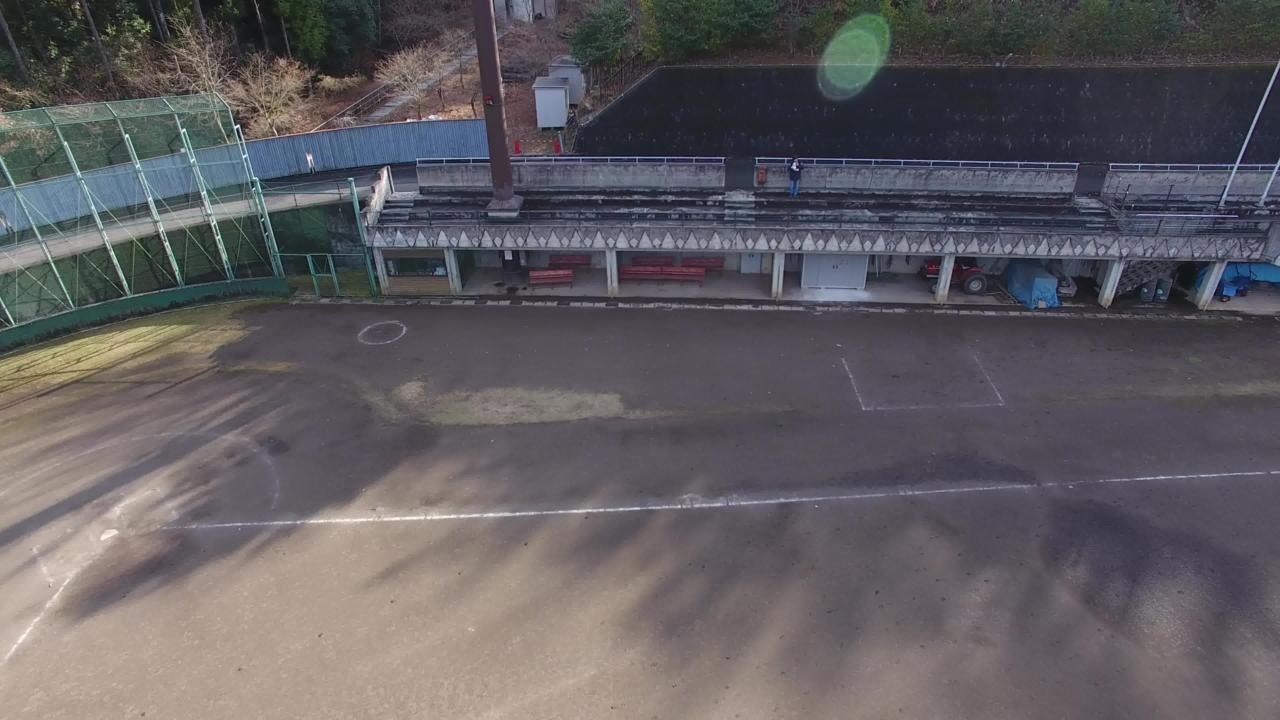person: (781, 154, 816, 203)
